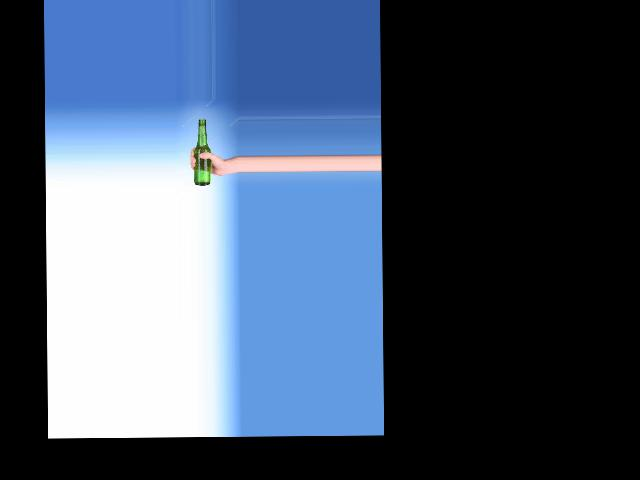beer: (194, 119, 210, 185)
